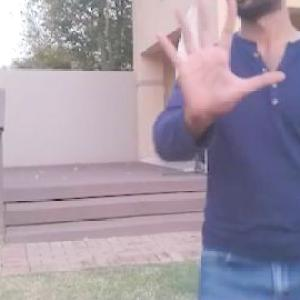follow_hand: (150, 0, 286, 121)
